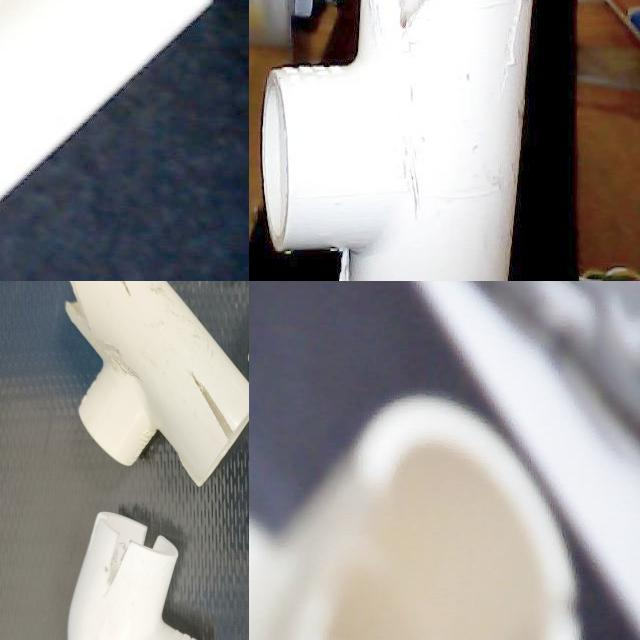Defective: (323, 487, 446, 640), (516, 547, 584, 640), (492, 0, 539, 107), (370, 0, 472, 47), (189, 466, 237, 536), (3, 514, 68, 552), (62, 314, 92, 386), (196, 467, 233, 524), (4, 519, 69, 550), (126, 534, 184, 568), (70, 309, 91, 379), (121, 542, 178, 566), (55, 602, 76, 640), (58, 601, 76, 640)
T Joint: (261, 0, 535, 281), (1, 482, 180, 640), (166, 419, 249, 612)
